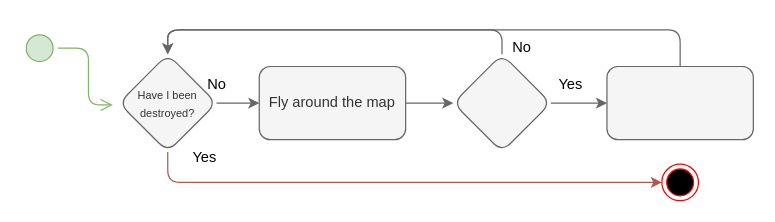
The diagram is 775 pixels wide and 222 high, and some of its shapes have lost their labels. Here are the shapes that lost their labels. From the top down, the centre of each, then its label:
At point 501,102: "Can I fire?".
At point 679,102: "Fire at the player".
